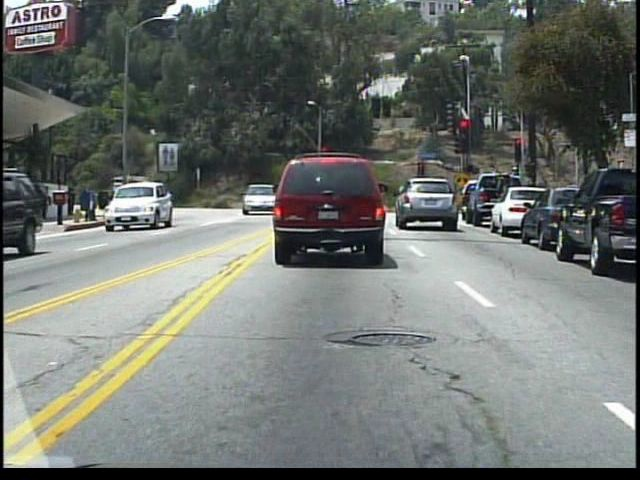person: (335, 186, 349, 212)
